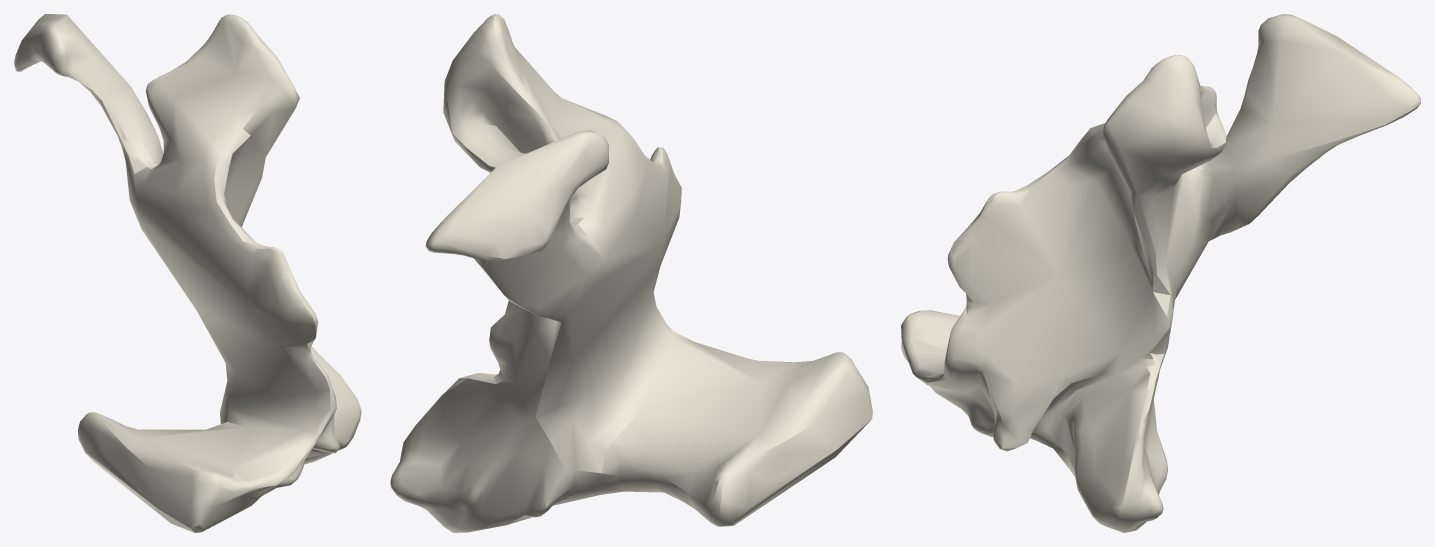
File: fma53656_fj6384.glb
3 renders of one model, left to right at view 1: azimuth 30°, elevation 25°; view 2: azimuth 150°, elevation 25°; view 3: azimuth 270°, elevation 25°, orthographic. The views are drawn at different scales.
Visible parts, largest first — view 1: FMA53656_FJ6384; view 2: FMA53656_FJ6384; view 3: FMA53656_FJ6384.
Boxes of the visible parts, x1=… form: FMA53656_FJ6384: x1=14, y1=14, x2=361, y2=532; FMA53656_FJ6384: x1=390, y1=14, x2=872, y2=532; FMA53656_FJ6384: x1=901, y1=14, x2=1420, y2=532.
Size of the model in its own units: 0.0291 by 0.0444 by 0.0467.
